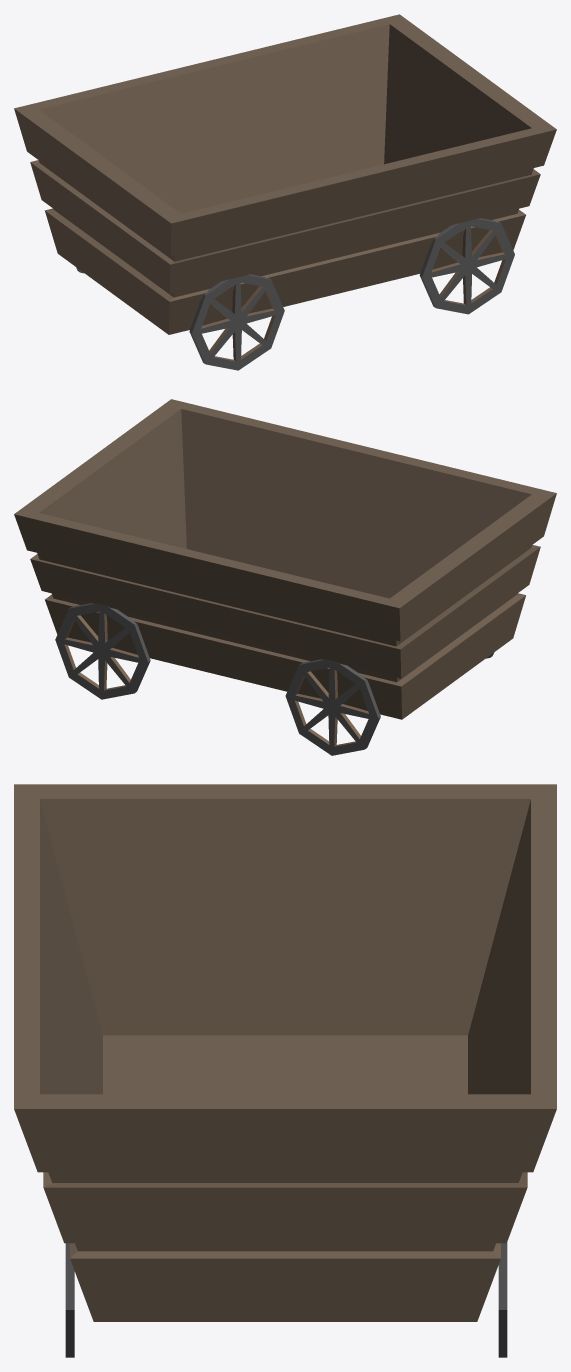
The model's file is transport_02.fbx.
3 views of the same model, one above another, from view 1: azimuth 30°, elevation 25°; view 2: azimuth 150°, elevation 25°; view 3: azimuth 270°, elevation 25° (orthographic). The views are drawn at different scales.
Parts seen in each view (by area): view 1: transport_02; view 2: transport_02; view 3: transport_02.
Boxes of the visible parts, box(x1,y1,x2,y2) form: transport_02: box(14, 14, 556, 370); transport_02: box(14, 399, 556, 755); transport_02: box(14, 784, 556, 1357).
Size of the model in its own units: 2.26 by 1.6 by 0.9969.
